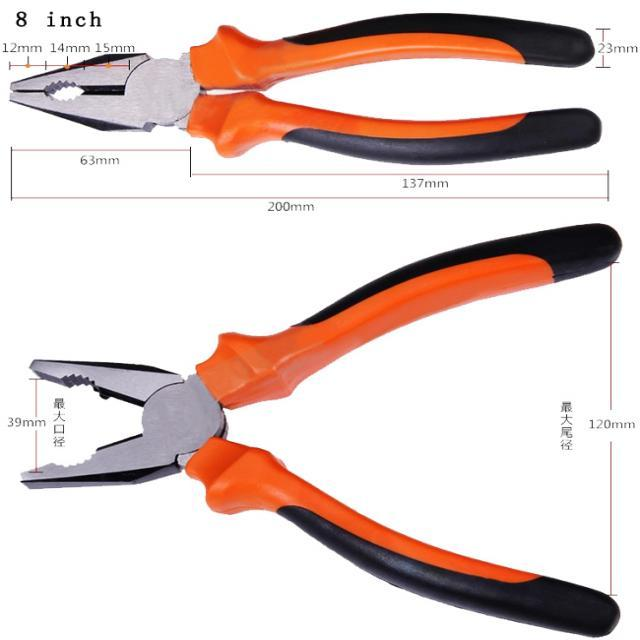pliers: (8, 218, 634, 640), (0, 8, 608, 168)
